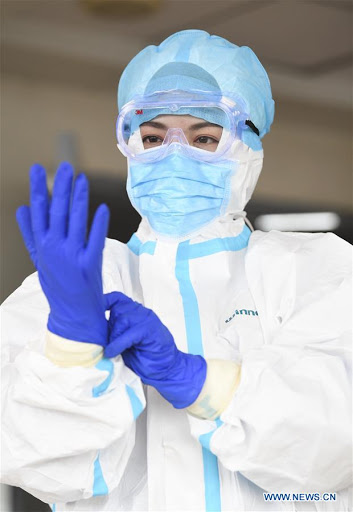Coverall: (1, 29, 353, 491)
Gloves: (16, 162, 116, 343), (105, 291, 204, 408)
Goggles: (115, 91, 244, 164)
with_mask: (126, 130, 235, 235)
